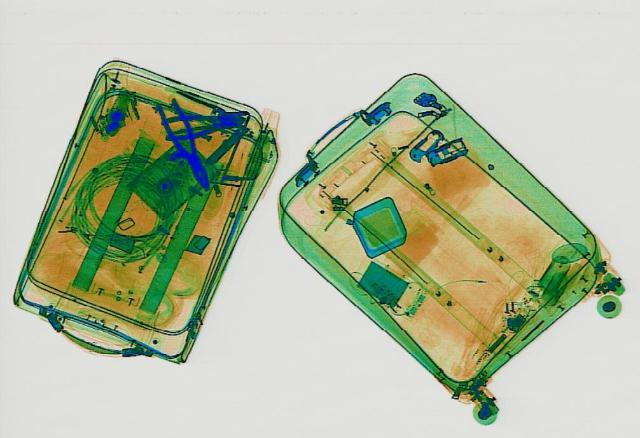Pliers: (148, 95, 222, 192), (158, 108, 246, 137)
